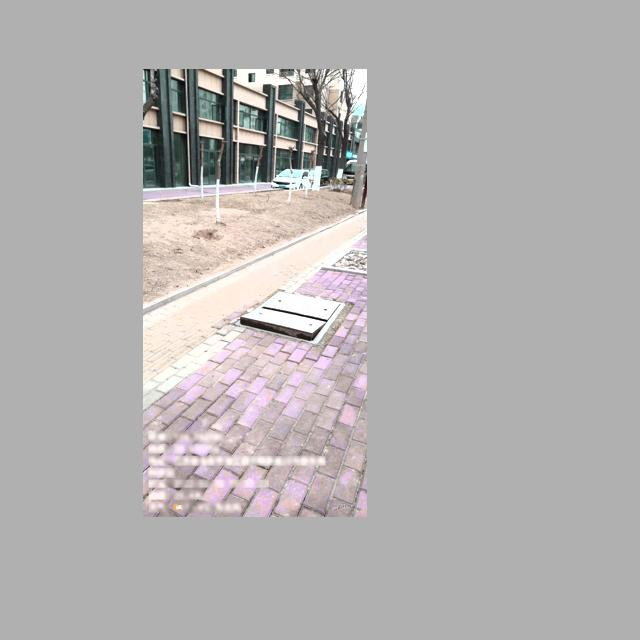uncovered: (241, 275, 342, 344)
